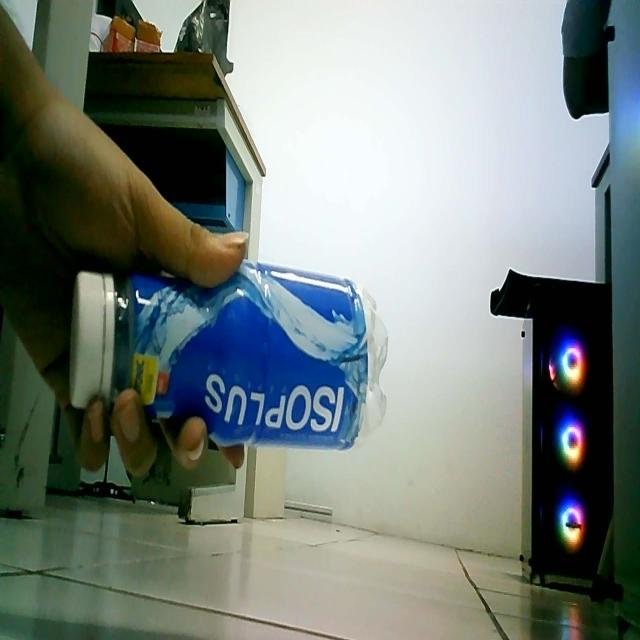botol: (61, 246, 394, 459)
